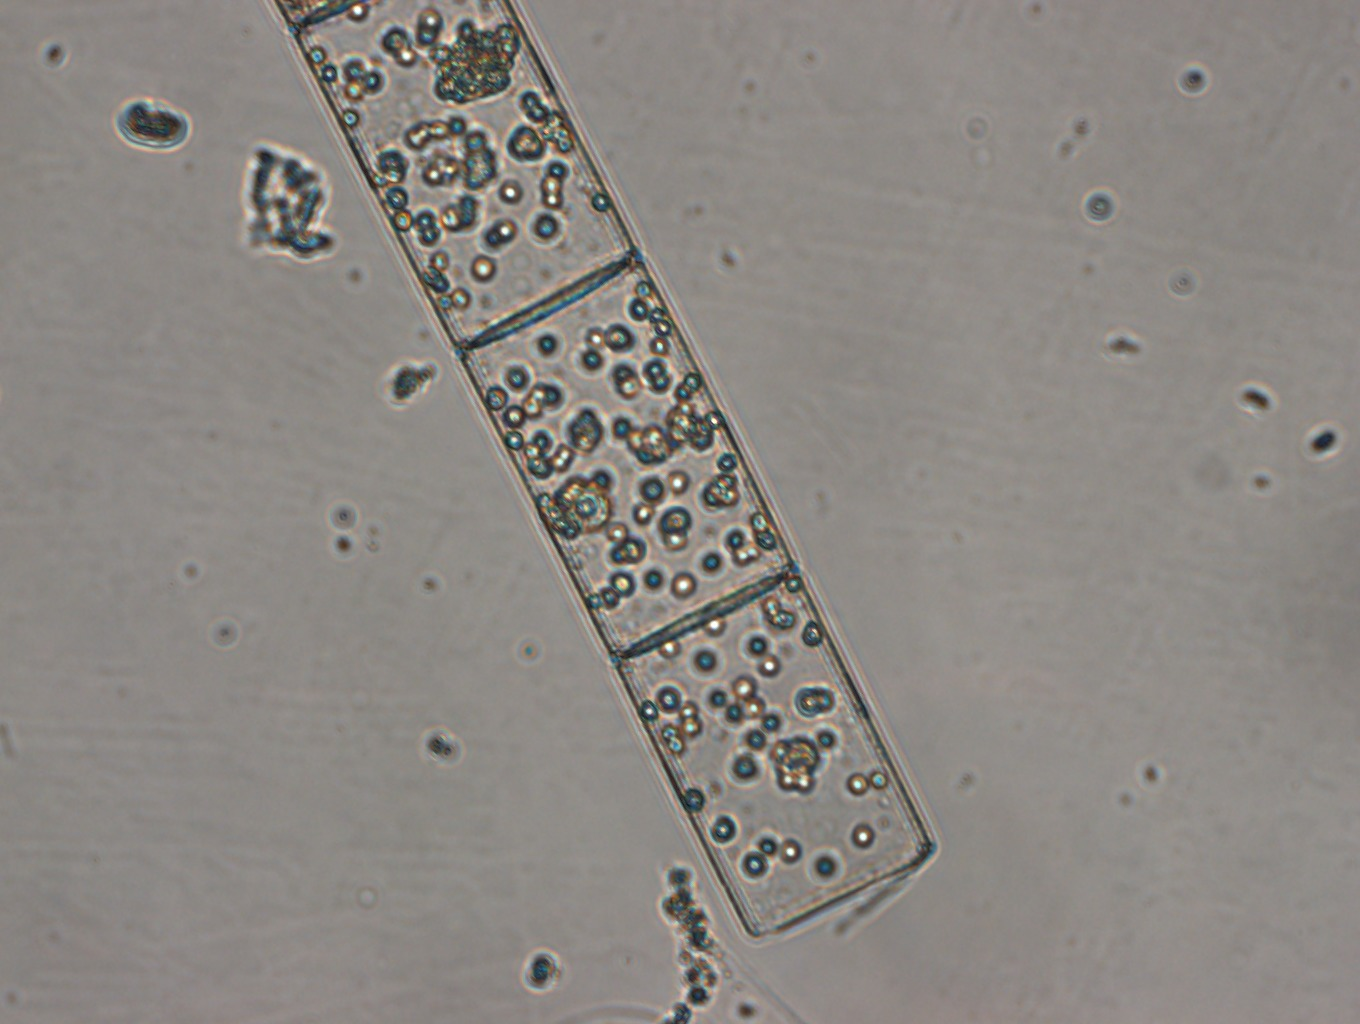guinardia flaccida: (264, 1, 946, 948)
